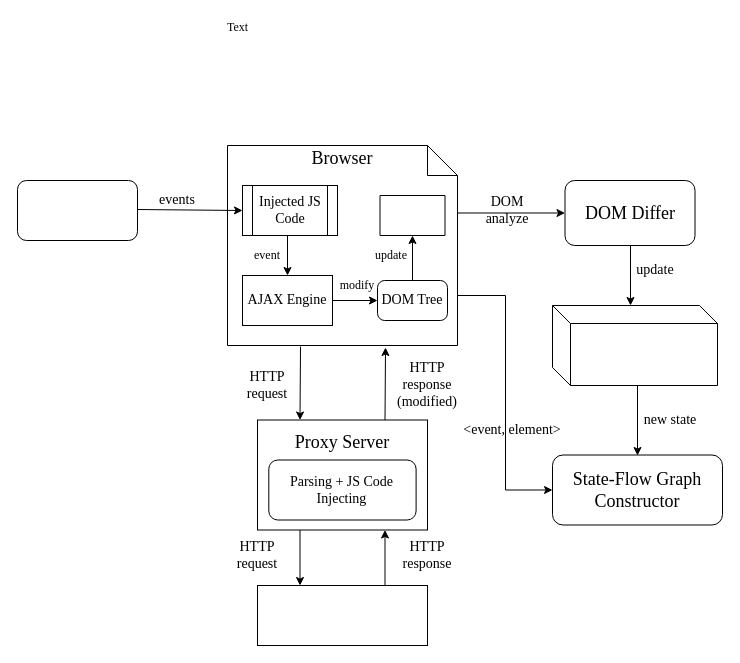
Image size: 740x663. Some labels were removed from this diagram. The shapes that lost their labels are listed below. From the top down, each one's centre as x and y in pixels, then its label:
the point at 77,210: Controller
the point at 412,215: UI Tags
the point at 635,345: HTML State Pool
the point at 342,615: Web Applications
